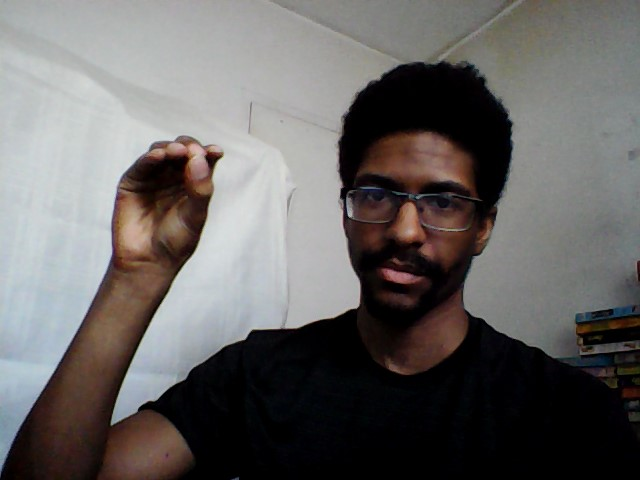o: (107, 132, 228, 275)
